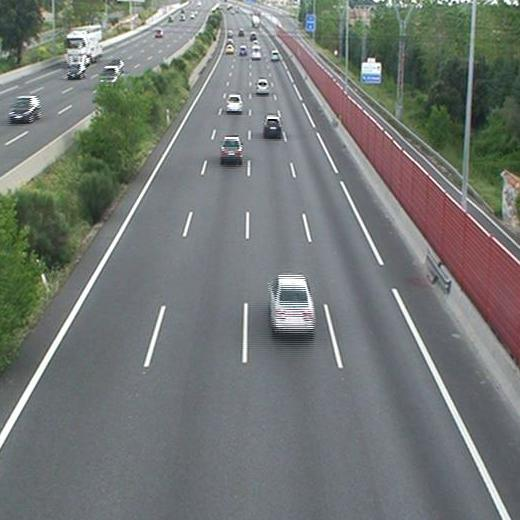car: (268, 276, 315, 332), (221, 136, 242, 161), (264, 117, 281, 136), (225, 94, 242, 112), (257, 79, 270, 93), (270, 51, 280, 61), (238, 46, 247, 55), (225, 45, 234, 54)
van: (252, 46, 261, 60)
